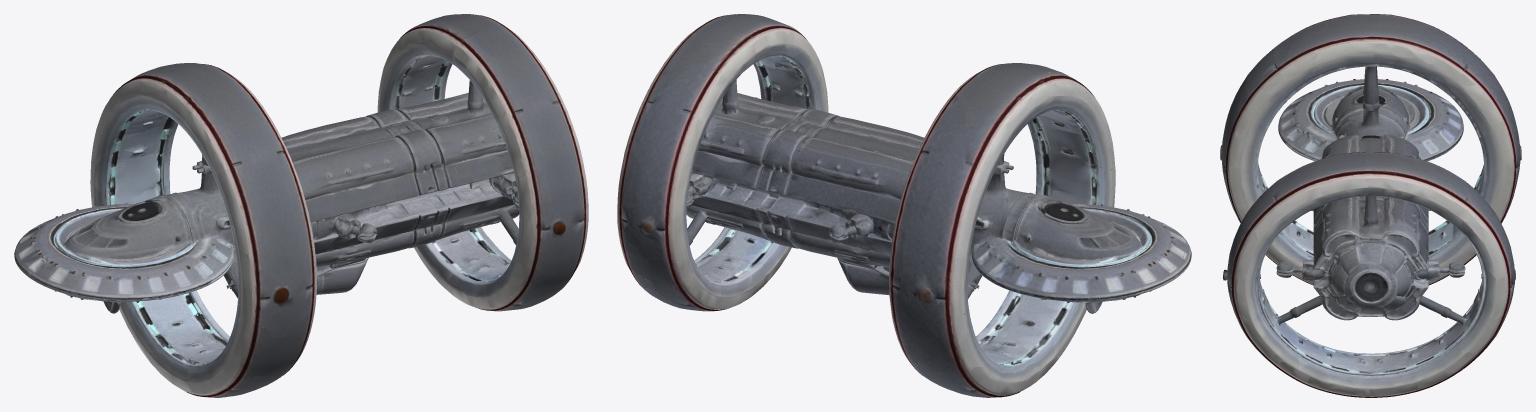
The model's file is PROP_Motor_Dobra_20261019.glb.
The picture shows the model from 3 angles, left to right: view 1: azimuth 30°, elevation 25°; view 2: azimuth 150°, elevation 25°; view 3: azimuth 270°, elevation 25°; orthographic projection. The views are drawn at different scales.
Parts seen in each view (by area): view 1: WARP19_LOD_Mesh_0; view 2: WARP19_LOD_Mesh_0; view 3: WARP19_LOD_Mesh_0.
Boxes of the visible parts, x1,y1,x2,y2 form: WARP19_LOD_Mesh_0: [14, 14, 588, 397]; WARP19_LOD_Mesh_0: [617, 14, 1191, 397]; WARP19_LOD_Mesh_0: [1220, 14, 1521, 397].
Bounding box in the file's own units: 3.74 × 2.2 × 2.25.
1 material, 1 textured.
